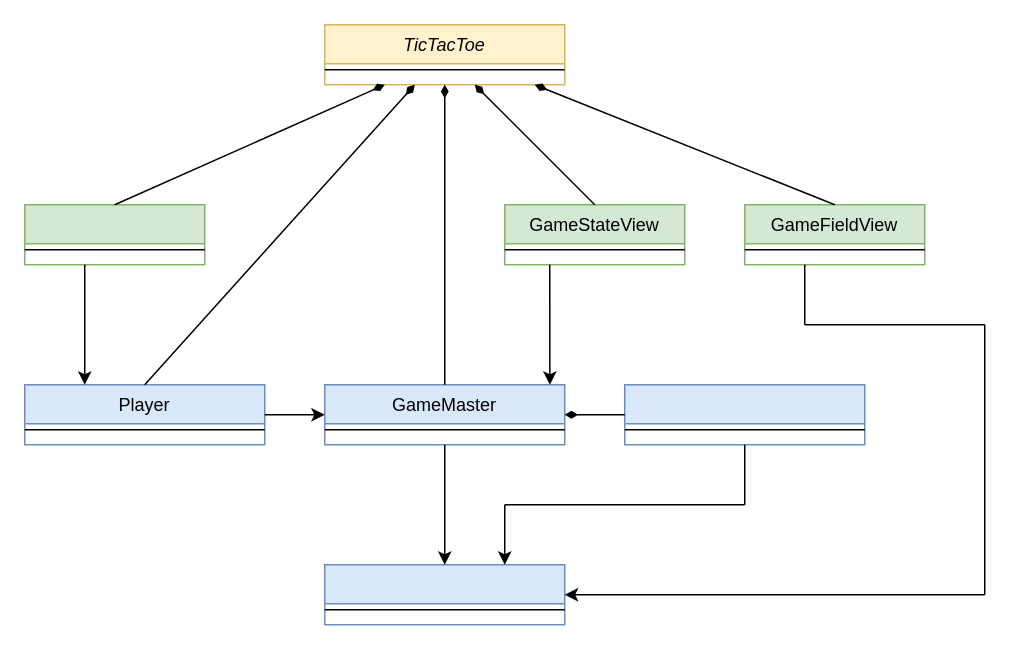
This 1010x650 diagram has some shape labels left out. The box of each missing label's shape, as (x1, y1, x2, y2) in pixels:
GameField: (323, 563, 565, 625)
GameStateScanner: (623, 383, 865, 445)
PlayerUI: (23, 203, 205, 265)
